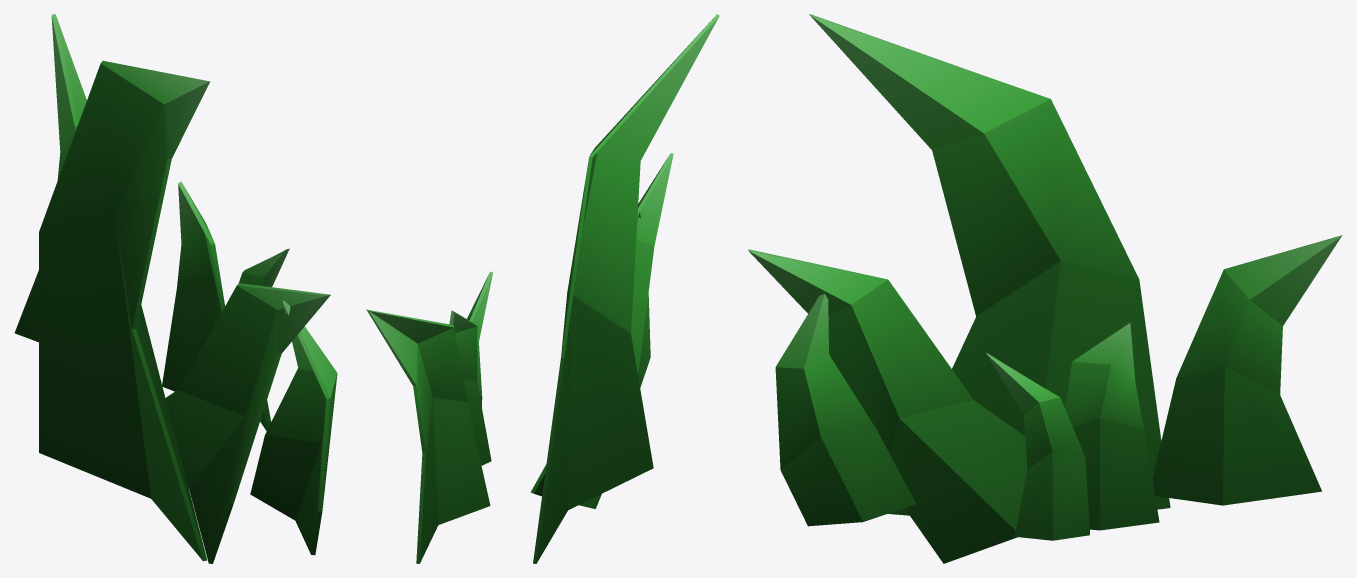
Rendered from Grass-1-1.fbx.
The picture shows the model from 3 angles, left to right: view 1: azimuth 30°, elevation 25°; view 2: azimuth 150°, elevation 25°; view 3: azimuth 270°, elevation 25°; orthographic projection. The views are drawn at different scales.
Parts seen in each view (by area): view 1: Grass-1-1; view 2: Grass-1-1; view 3: Grass-1-1.
Part boxes in pixels (x1,y1,x2,y2): Grass-1-1: (14, 14, 337, 563); Grass-1-1: (366, 14, 719, 563); Grass-1-1: (748, 14, 1342, 563).
Bounding box in the file's own units: 19.34 × 55.06 × 57.57.
